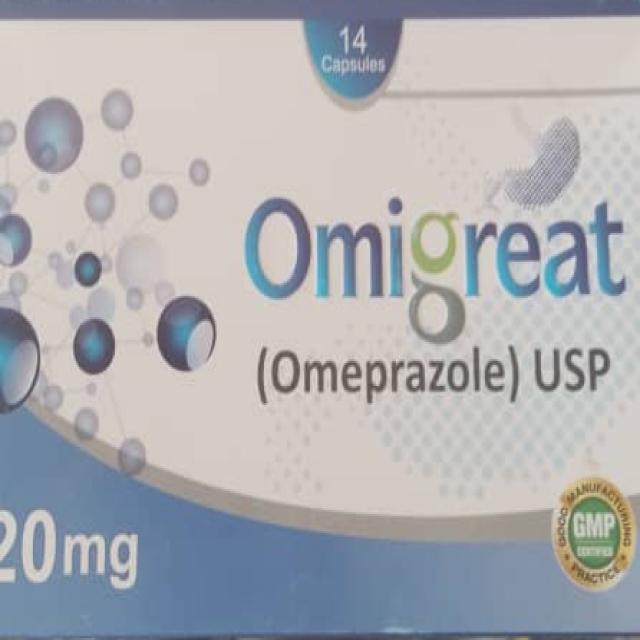drug-name: (239, 192, 630, 345)
